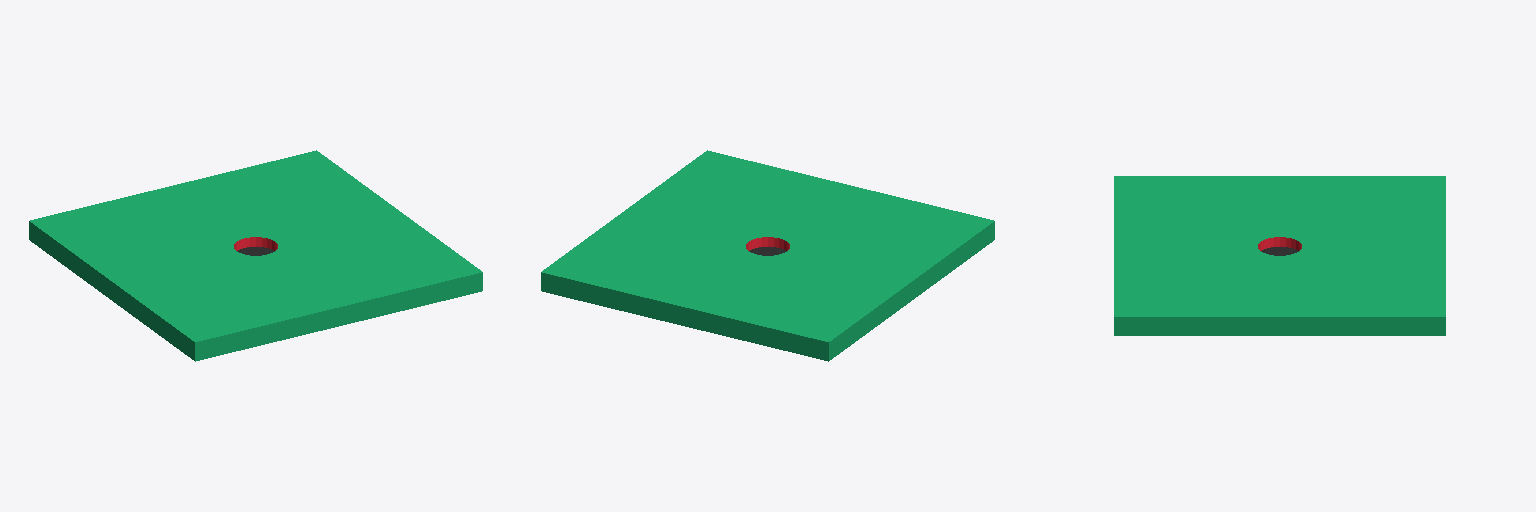
The model's file is holeOpen.obj.
3 renders of one model, left to right at view 1: azimuth 30°, elevation 25°; view 2: azimuth 150°, elevation 25°; view 3: azimuth 270°, elevation 25°, orthographic.
Parts seen in each view (by area): view 1: holeOpen; view 2: holeOpen; view 3: holeOpen.
Boxes of the visible parts, <box> form: holeOpen: <box>29,150,482,361</box>; holeOpen: <box>541,150,994,361</box>; holeOpen: <box>1114,176,1445,335</box>.
Bounding box in the file's own units: 0.9999 × 0.0633 × 0.9999.